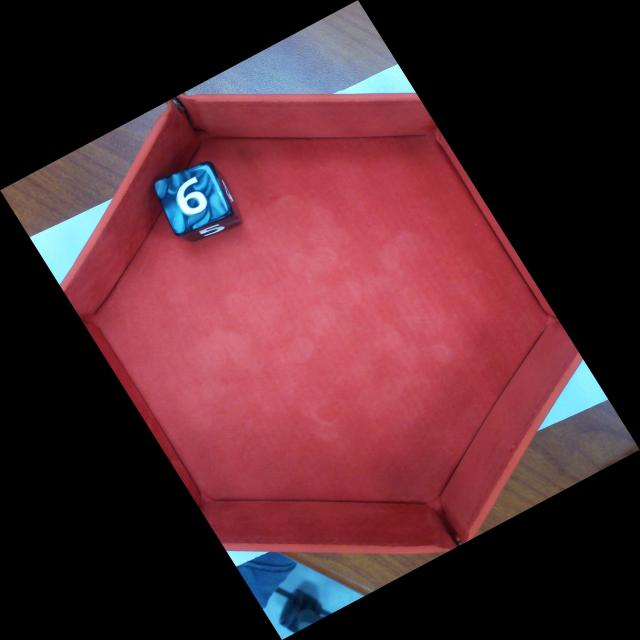dice: (153, 161, 225, 234)
